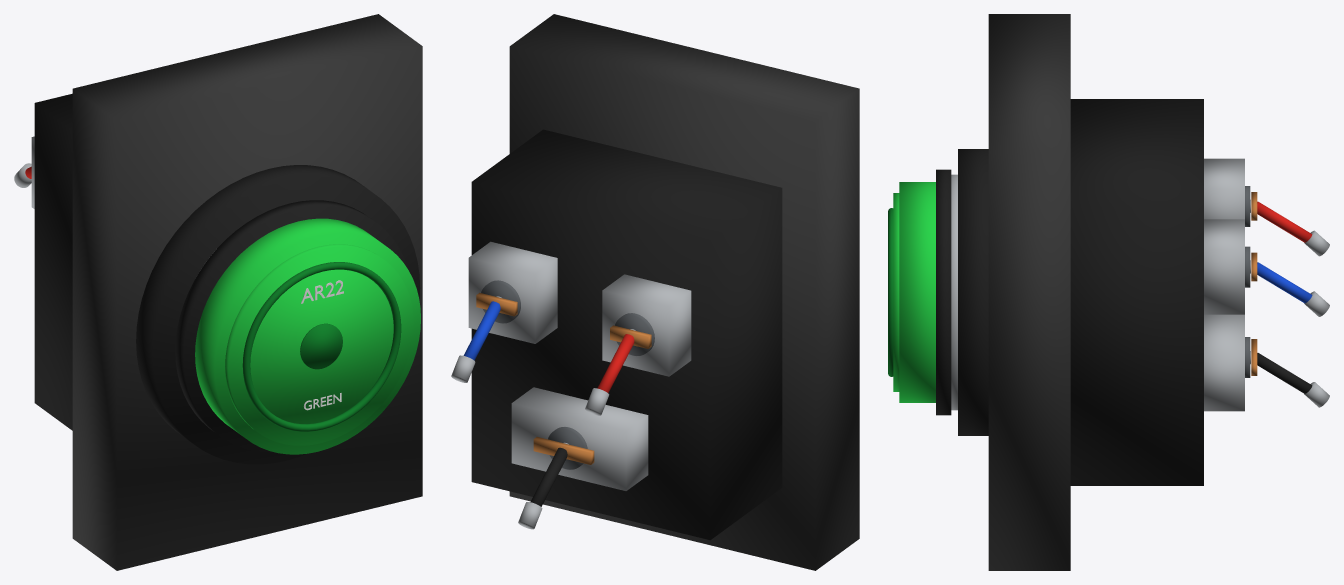
File: PB_Hijau.glb
The picture shows the model from 3 angles, left to right: view 1: azimuth 30°, elevation 25°; view 2: azimuth 150°, elevation 25°; view 3: azimuth 270°, elevation 25°; orthographic projection. The views are drawn at different scales.
Parts seen in each view (by area): view 1: AR22_GREEN_Panel, AR22_GREEN_Button_Front, AR22_GREEN_Frame, AR22_GREEN_Body, AR22_GREEN_Button, AR22_GREEN_Front_Ring, AR22_GREEN_Button_Ring, AR22_GREEN_Button_Mark; view 2: AR22_GREEN_Body, AR22_GREEN_Panel, AR22_GREEN_Terminal_Bottom, AR22_GREEN_Terminal_Right, AR22_GREEN_Terminal_Left, AR22_GREEN_Copper_Bottom, AR22_GREEN_Blue_Wire, AR22_GREEN_Black_Wire, AR22_GREEN_Red_Wire, AR22_GREEN_Terminal_Screw_7, AR22_GREEN_Terminal_Screw_-7, AR22_GREEN_Bottom_Screw (+2 smaller); view 3: AR22_GREEN_Body, AR22_GREEN_Panel, AR22_GREEN_Frame, AR22_GREEN_Button, AR22_GREEN_Terminal_Bottom, AR22_GREEN_Front_Ring, AR22_GREEN_Terminal_Right, AR22_GREEN_Terminal_Left, AR22_GREEN_Metal_Ring, AR22_GREEN_Button_Front, AR22_GREEN_Button_Ring, AR22_GREEN_Red_Wire (+2 smaller).
Boxes of the visible parts, left/top/right/bottom form: AR22_GREEN_Panel: left=72, top=14, right=422, bottom=570; AR22_GREEN_Button_Front: left=225, top=244, right=413, bottom=445; AR22_GREEN_Frame: left=136, top=165, right=420, bottom=464; AR22_GREEN_Body: left=34, top=93, right=72, bottom=430; AR22_GREEN_Button: left=195, top=218, right=420, bottom=454; AR22_GREEN_Front_Ring: left=175, top=200, right=408, bottom=452; AR22_GREEN_Button_Ring: left=242, top=262, right=401, bottom=431; AR22_GREEN_Button_Mark: left=300, top=323, right=342, bottom=369; AR22_GREEN_Body: left=471, top=129, right=782, bottom=540; AR22_GREEN_Panel: left=509, top=14, right=859, bottom=570; AR22_GREEN_Terminal_Bottom: left=511, top=387, right=648, bottom=490; AR22_GREEN_Terminal_Right: left=468, top=241, right=557, bottom=343; AR22_GREEN_Terminal_Left: left=602, top=274, right=691, bottom=376; AR22_GREEN_Copper_Bottom: left=533, top=437, right=594, bottom=464; AR22_GREEN_Blue_Wire: left=463, top=301, right=500, bottom=360; AR22_GREEN_Black_Wire: left=530, top=447, right=567, bottom=506; AR22_GREEN_Red_Wire: left=597, top=334, right=634, bottom=393; AR22_GREEN_Terminal_Screw_7: left=481, top=280, right=520, bottom=323; AR22_GREEN_Terminal_Screw_-7: left=615, top=313, right=654, bottom=355; AR22_GREEN_Bottom_Screw: left=548, top=427, right=587, bottom=469; AR22_GREEN_Body: left=1070, top=99, right=1203, bottom=485; AR22_GREEN_Panel: left=988, top=14, right=1070, bottom=570; AR22_GREEN_Frame: left=958, top=149, right=988, bottom=435; AR22_GREEN_Button: left=899, top=182, right=935, bottom=402; AR22_GREEN_Terminal_Bottom: left=1204, top=314, right=1244, bottom=411; AR22_GREEN_Front_Ring: left=936, top=169, right=951, bottom=415; AR22_GREEN_Terminal_Right: left=1204, top=219, right=1244, bottom=314; AR22_GREEN_Terminal_Left: left=1204, top=158, right=1244, bottom=219; AR22_GREEN_Metal_Ring: left=951, top=174, right=957, bottom=410; AR22_GREEN_Button_Front: left=893, top=193, right=899, bottom=391; AR22_GREEN_Button_Ring: left=888, top=208, right=893, bottom=376; AR22_GREEN_Red_Wire: left=1257, top=201, right=1312, bottom=242.
Bounding box in the file's own units: 32 × 45 × 43.08.
